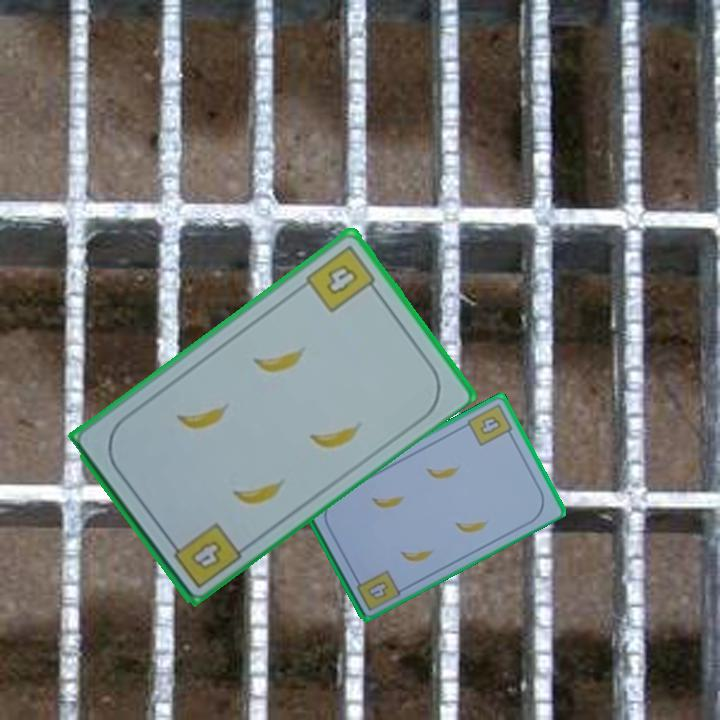4b: (302, 241, 382, 316), (164, 518, 244, 591), (464, 400, 517, 449), (363, 577, 392, 602)
